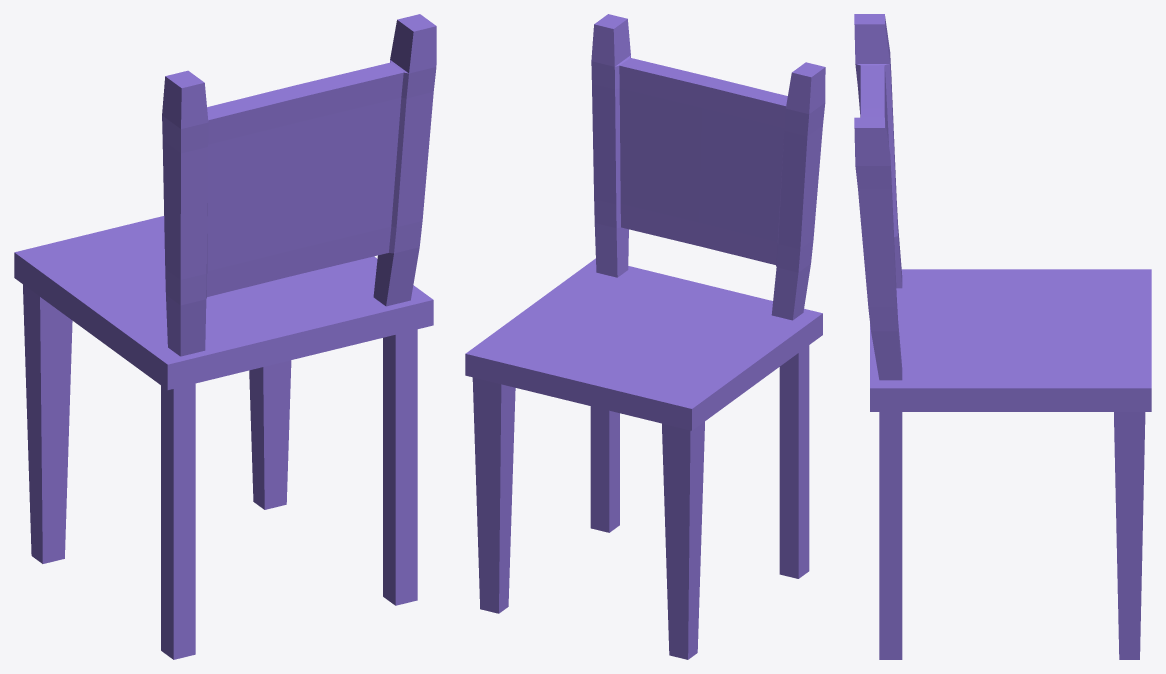
File: Stuhl.fbx
3 renders of one model, left to right at view 1: azimuth 30°, elevation 25°; view 2: azimuth 150°, elevation 25°; view 3: azimuth 270°, elevation 25°, orthographic. The views are drawn at different scales.
Visible parts, largest first — view 1: Stuhl.005; view 2: Stuhl.005; view 3: Stuhl.005.
Boxes of the visible parts, x1,y1,x2,y2 form: Stuhl.005: [14, 14, 436, 659]; Stuhl.005: [465, 14, 825, 659]; Stuhl.005: [854, 14, 1151, 659].
Bounding box in the file's own units: 241 × 504 × 254.
